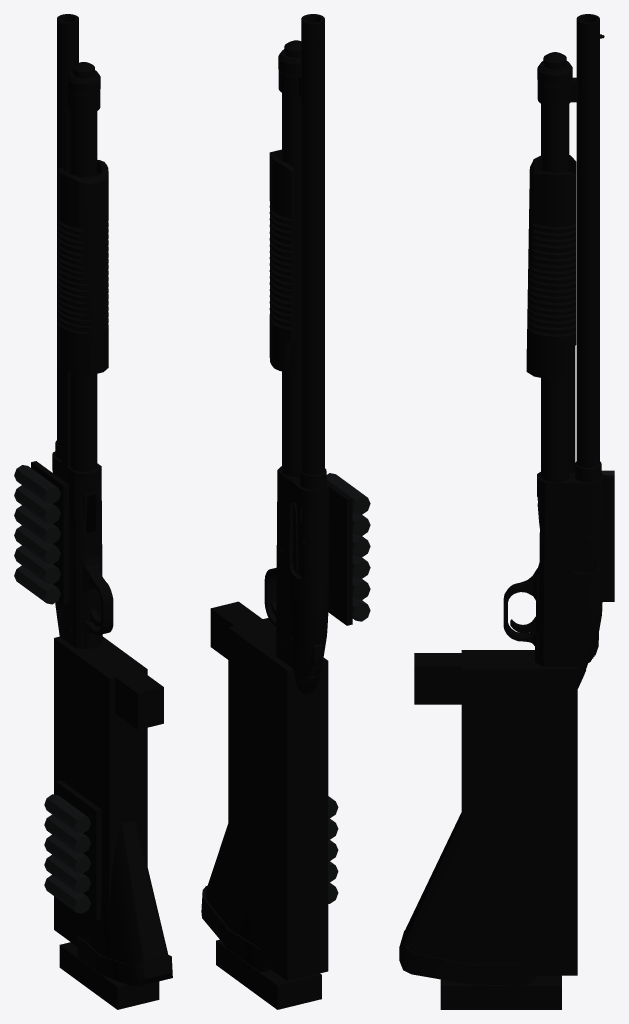
Rendered from M590__RecoilPad_Rubber__ShellHolder_Butt__Sidesaddle_Shotgun__Stock_M590_PistolGrip.fbx.
3 renders of one model, left to right at view 1: azimuth 30°, elevation 25°; view 2: azimuth 210°, elevation 25°; view 3: azimuth 270°, elevation 25°, orthographic. The views are drawn at different scales.
Visible parts, largest first — view 1: asset_M590.001; view 2: asset_M590.001; view 3: asset_M590.001.
Boxes of the visible parts, x1=… form: asset_M590.001: x1=14, y1=14, x2=172, y2=1009; asset_M590.001: x1=201, y1=14, x2=370, y2=1009; asset_M590.001: x1=399, y1=14, x2=614, y2=1009.
Size of the model in its own units: 0.0447 by 0.615 by 0.1224.
